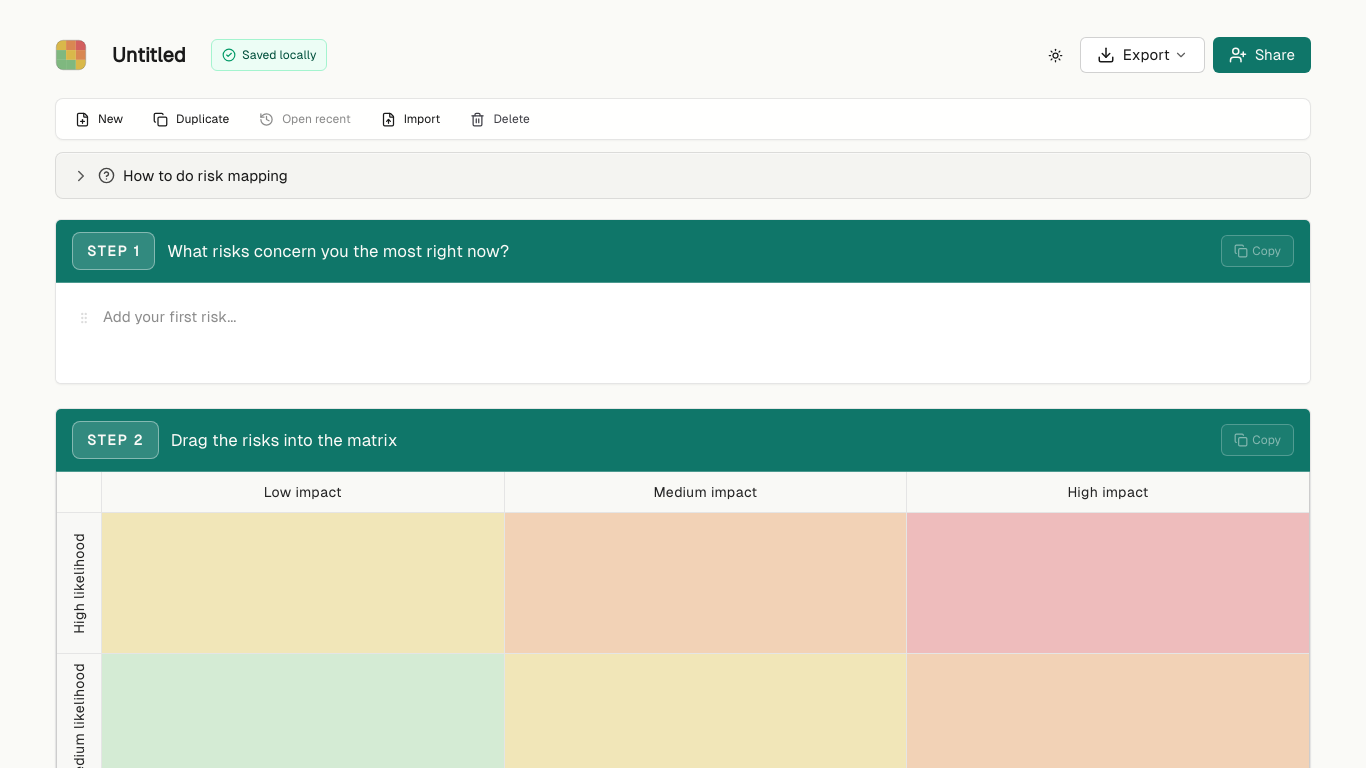
Duplicate › opens a copy of the current matrix and keeps the original
Clear the field named "Matrix title" at {"x": 149, "y": 55}, box [103,36,195,74]
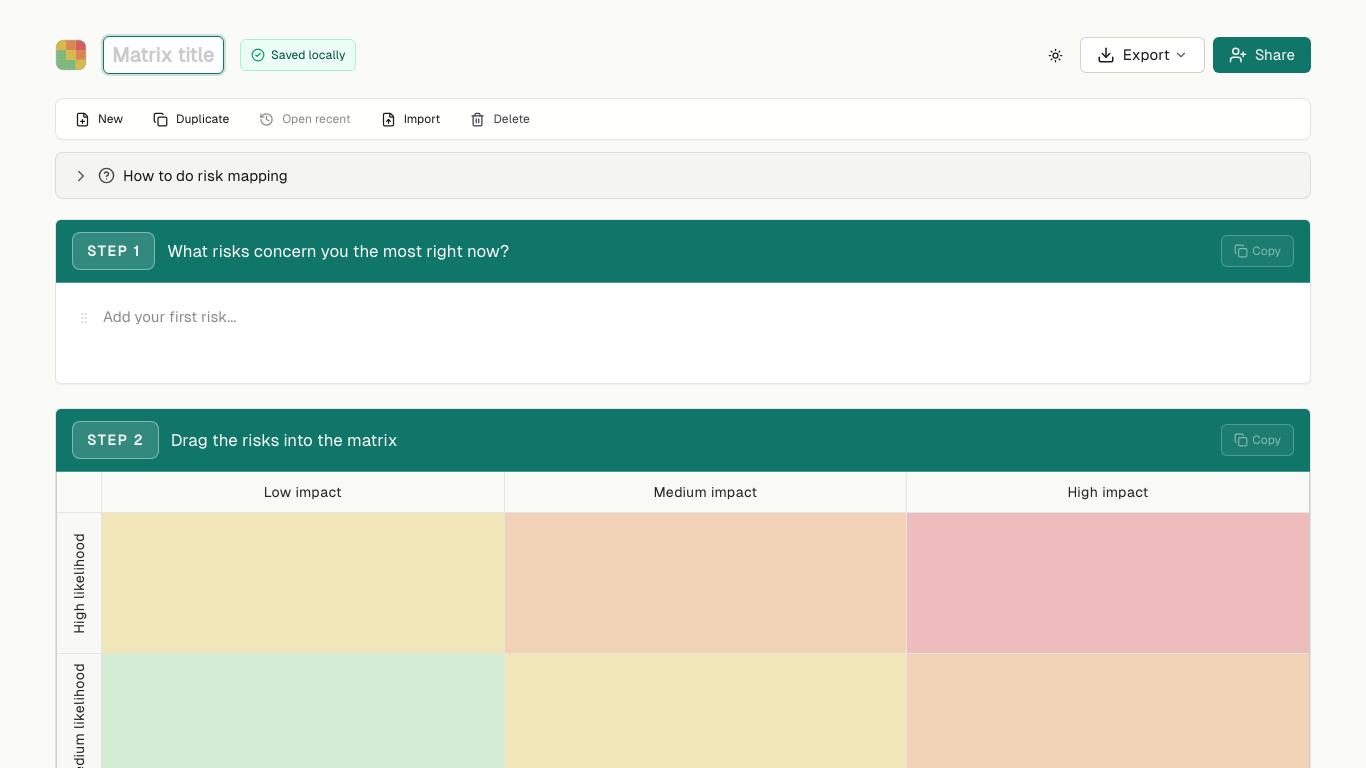
Type "Mine" into the field labelled "Matrix title".
click(164, 55); type("Mine")  # box [103,36,224,74]
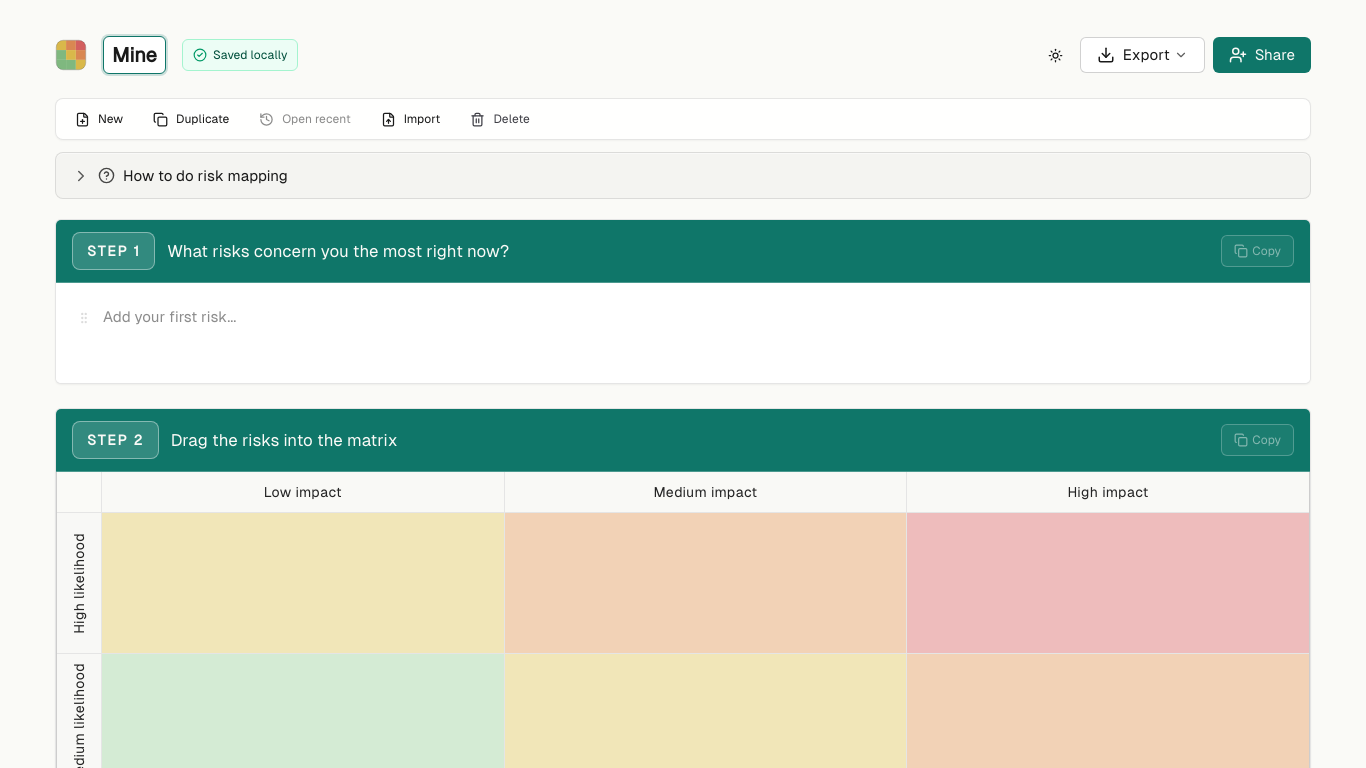
Type "Infiltrator" into the text box with placeholder "Add your first risk...".
click(310, 318); type("Infiltrator")  # box [97,300,523,335]
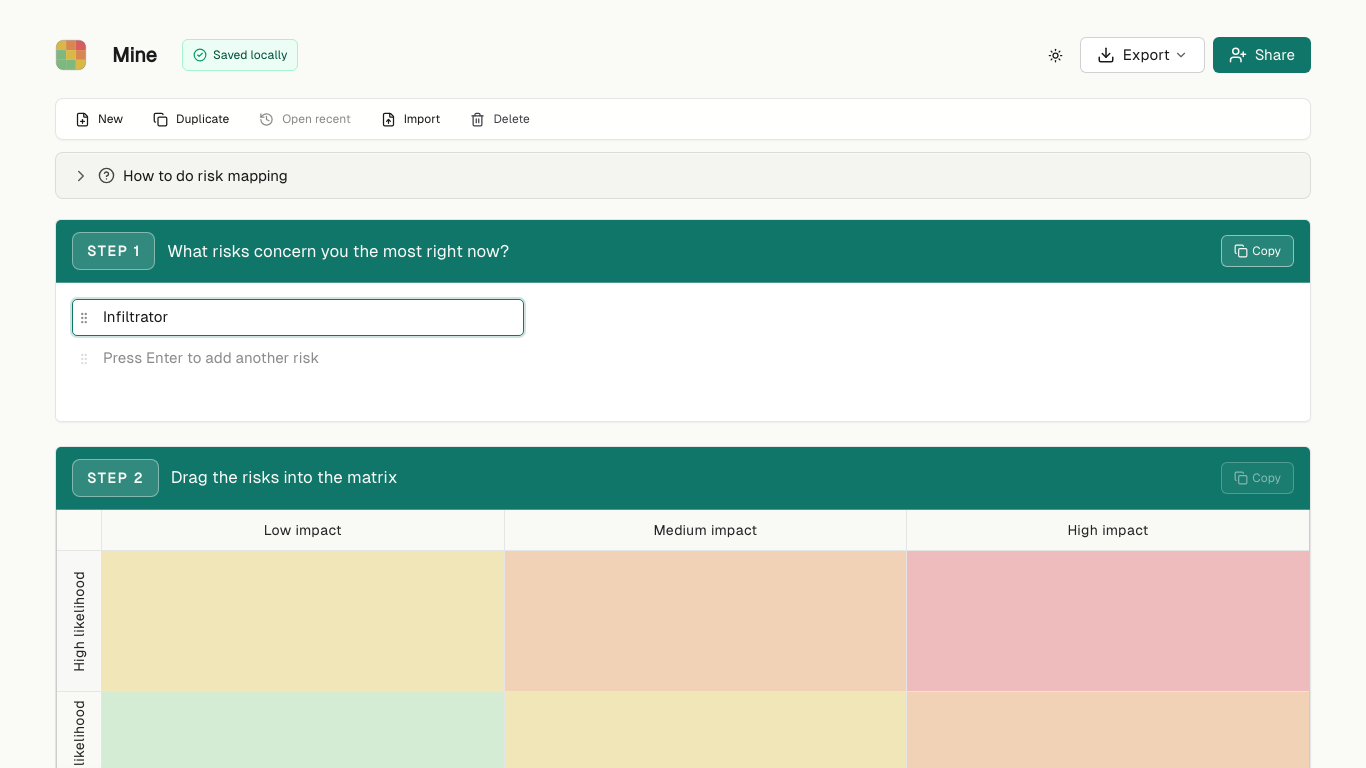
Click the button "Duplicate".
click(191, 119)  # box [140,103,242,135]
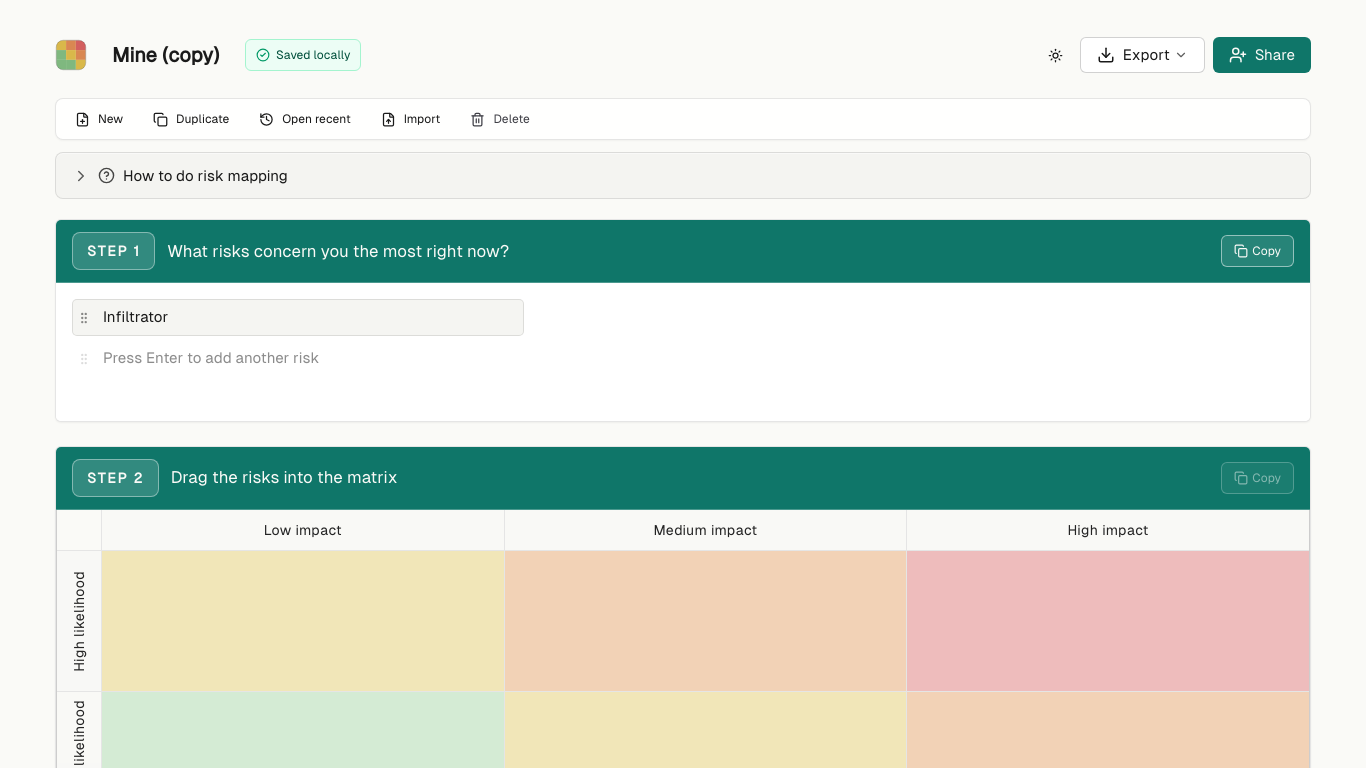
Expected: the text box showing "Infiltrator" is shown, [97,300,523,335]
Expected: the field named "Matrix title" holds "Mine (copy)", [103,36,229,74]
